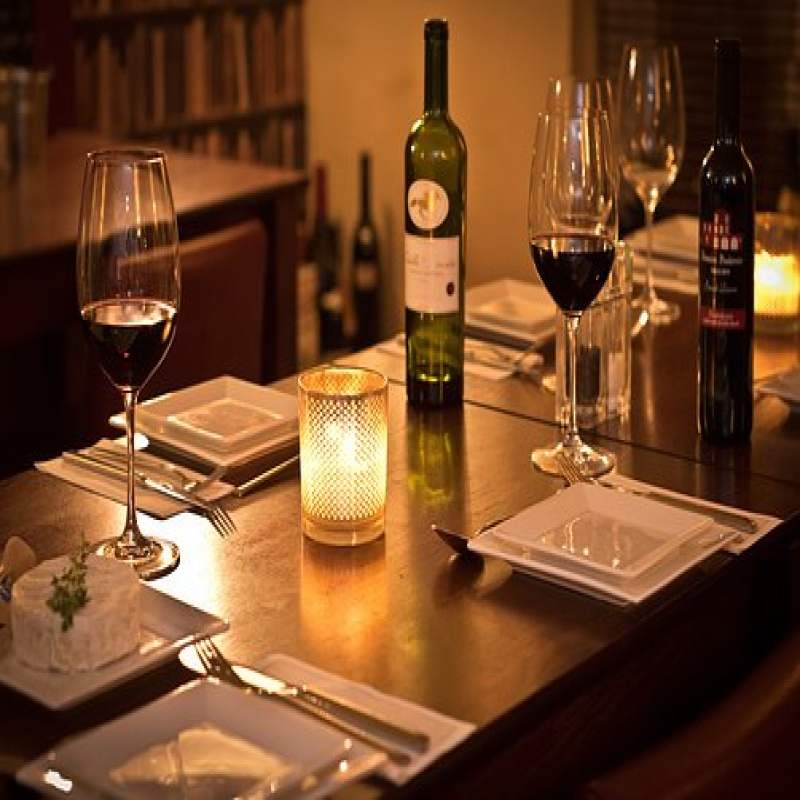wine: (400, 24, 467, 398)
